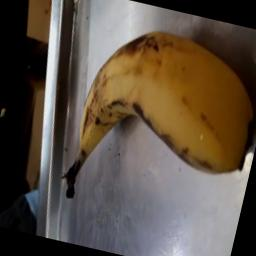Banana Overripe: (61, 7, 256, 205)
